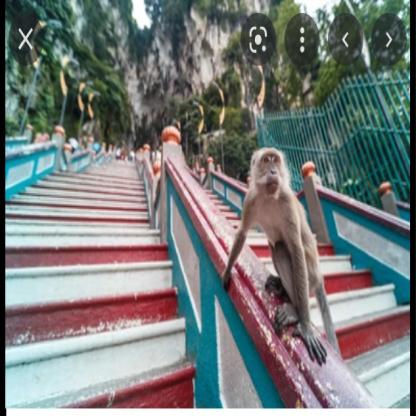monkey: (220, 145, 337, 372)
